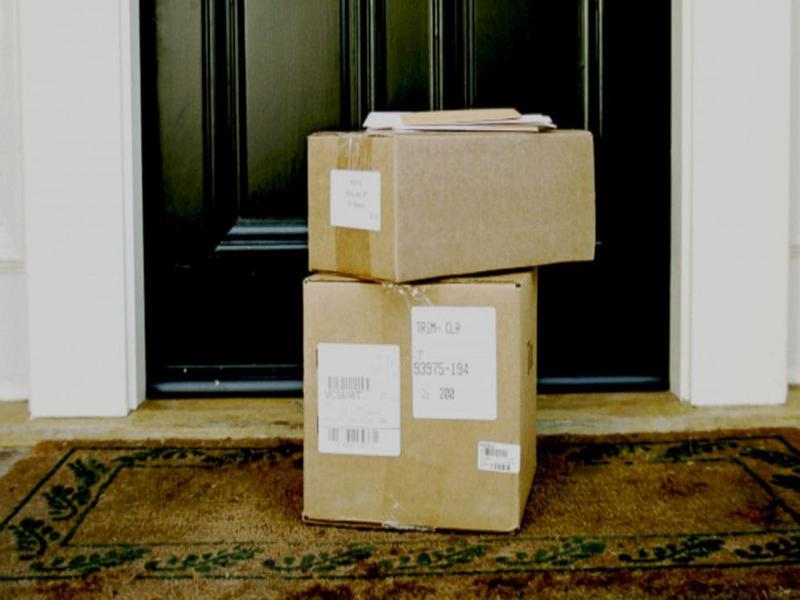package: (294, 273, 548, 535), (297, 125, 602, 280)
